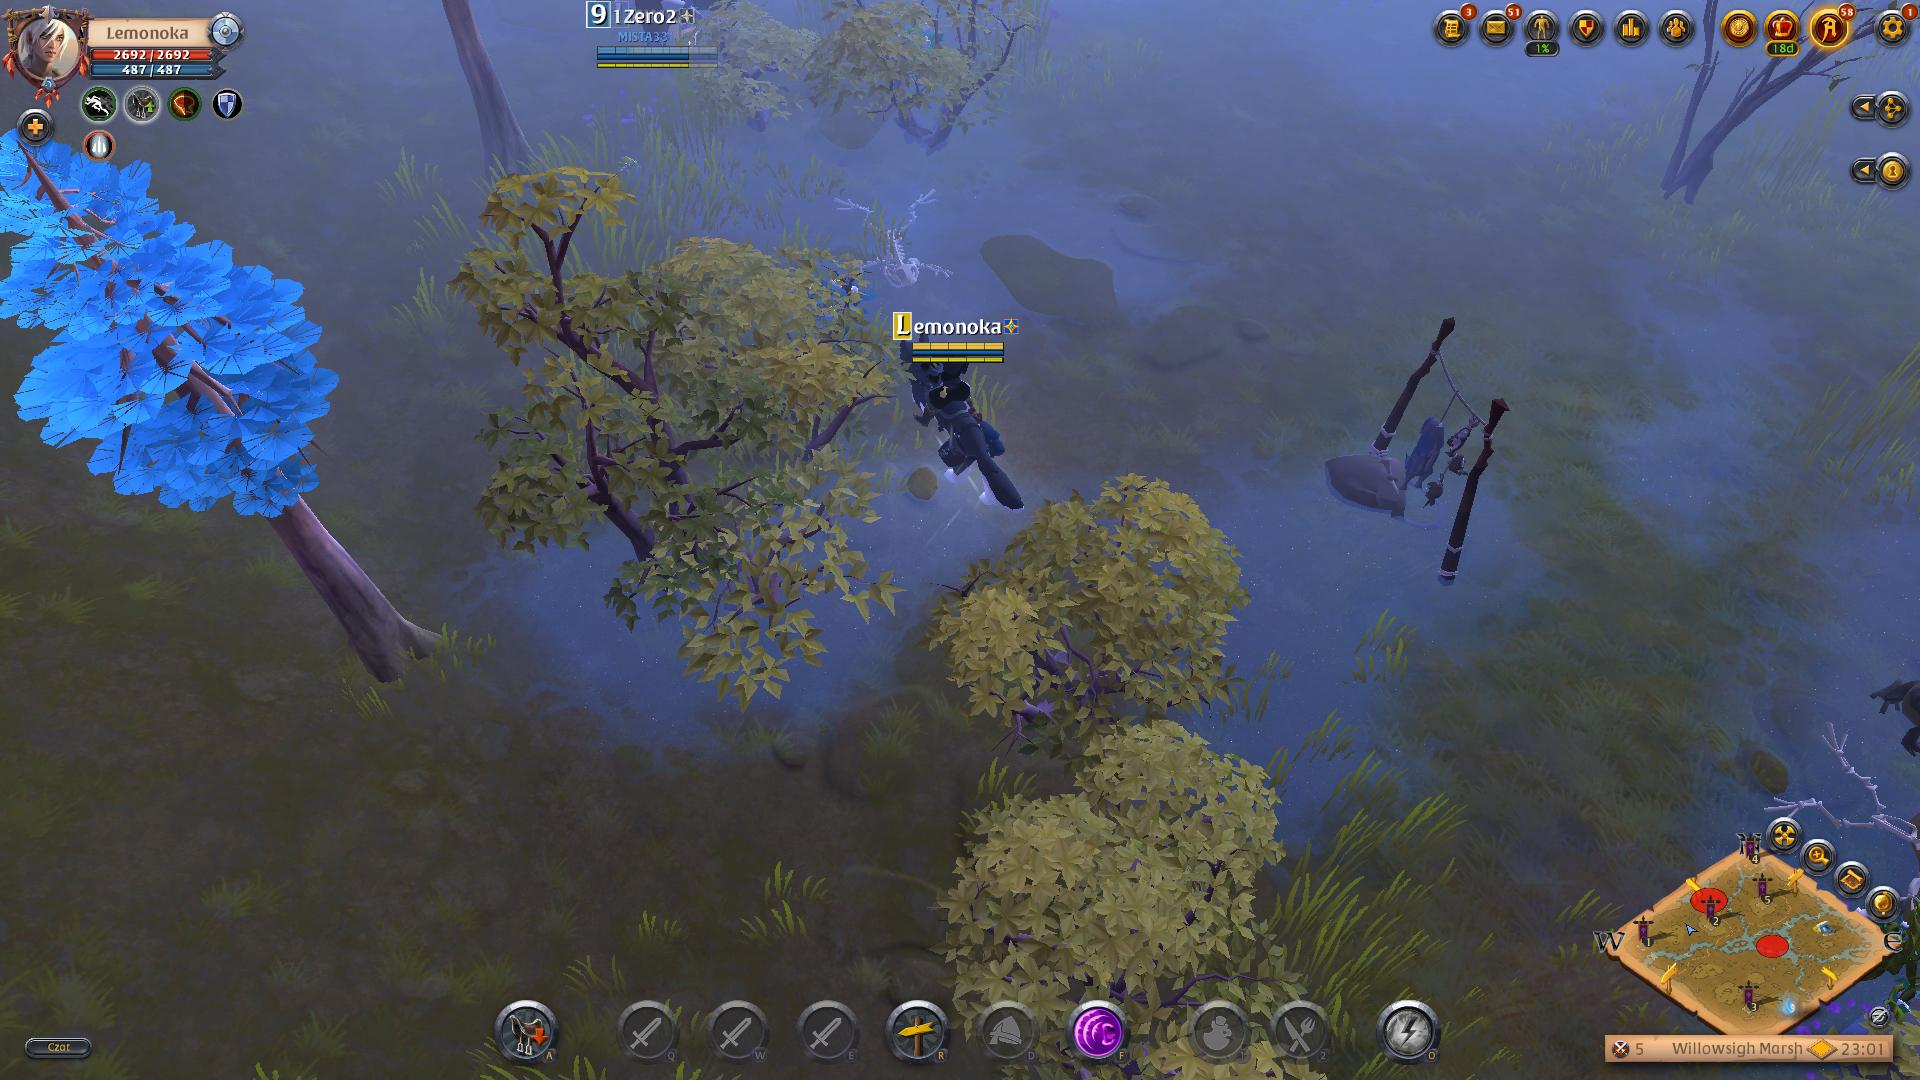wood tier 4: (0, 162, 348, 520)
